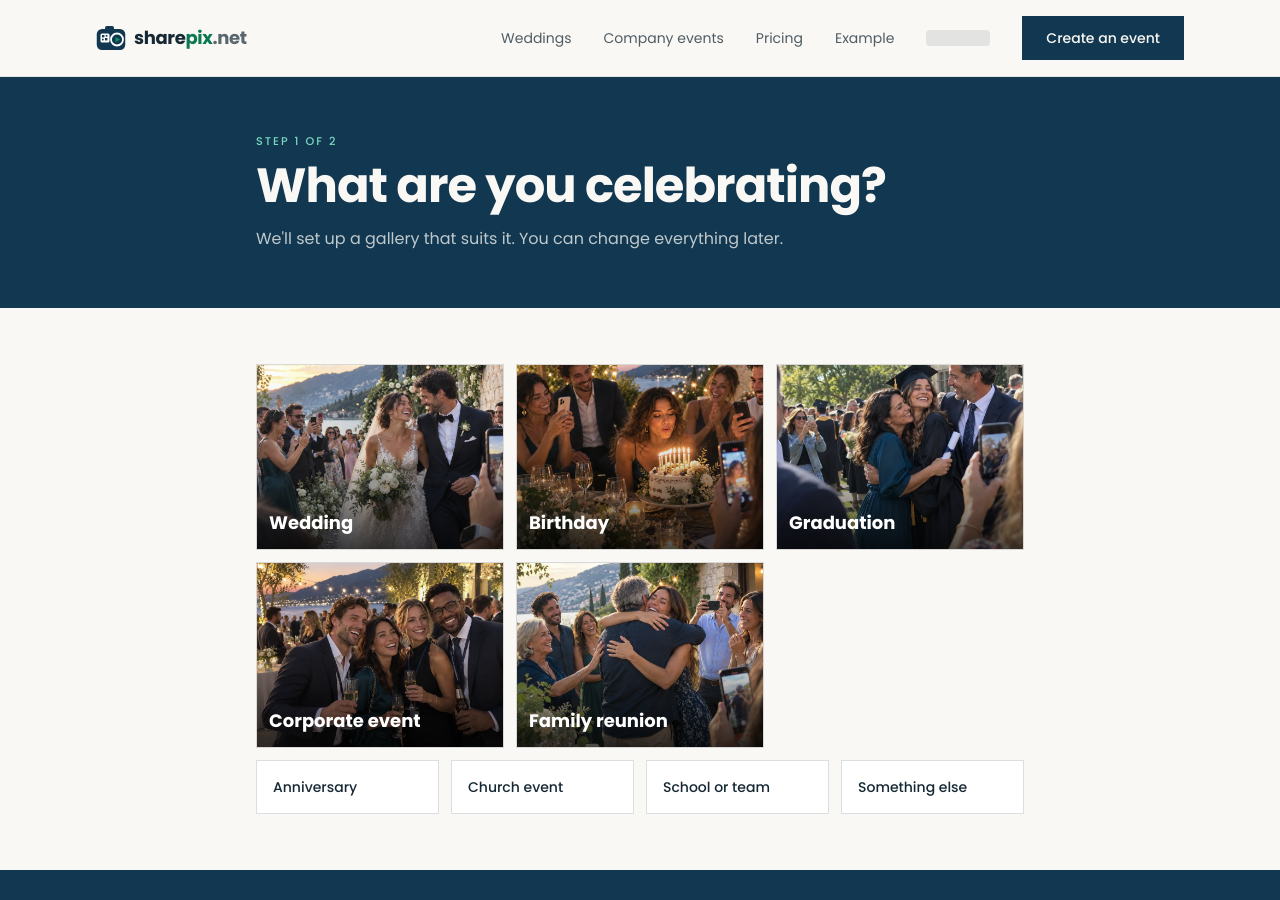
Test: creating an event › asks the event type first, then narrows the form to it
Expected: the text "What are you celebrating?" is shown, [256,152,886,219]
Expected: the field labelled "Event name" is not shown
Click the button "Wedding": click(380, 457) [256,364,504,550]
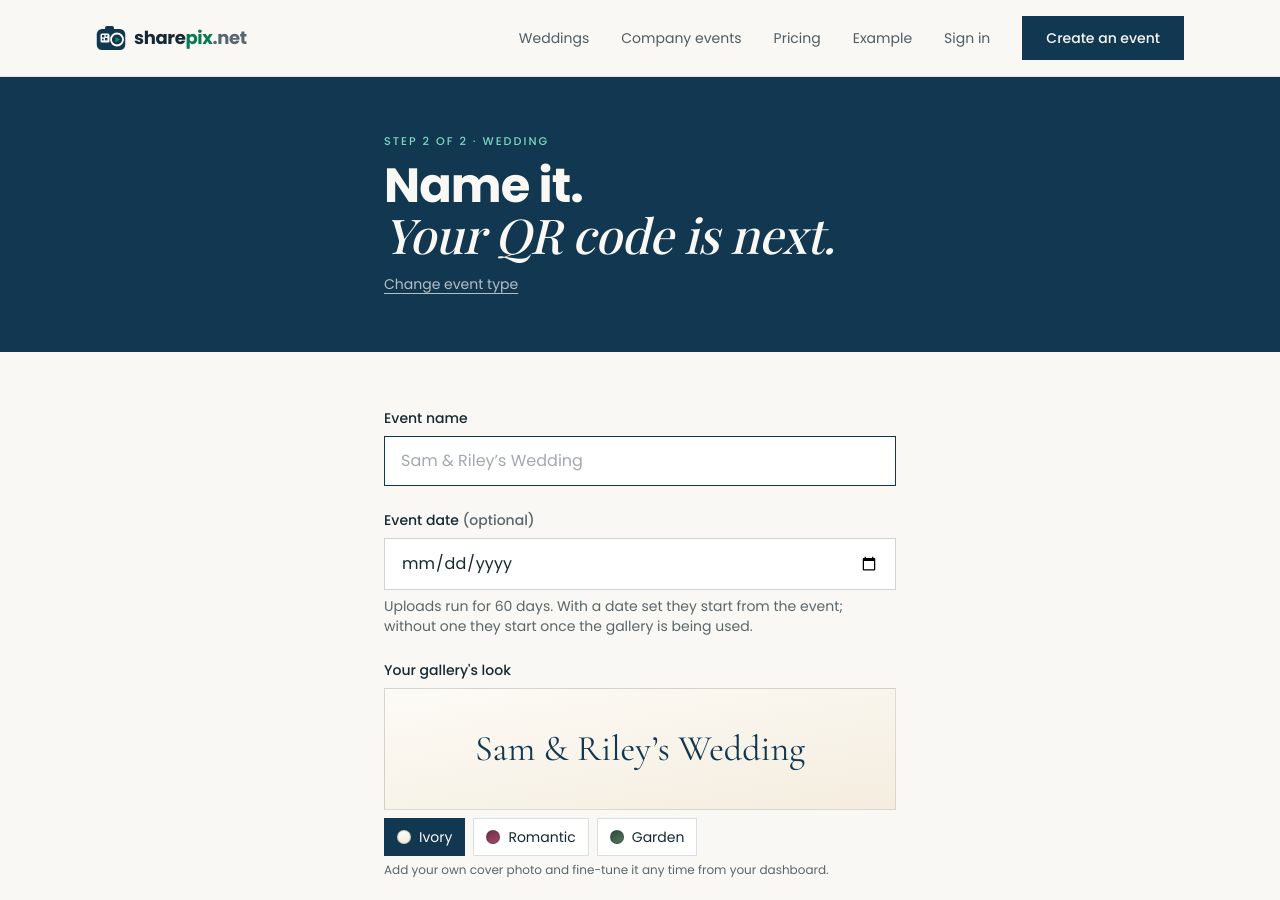
Now the radio button labelled "Ivory" is checked, box [384,818,465,856]
Now the radio button labelled "Romantic" is shown, box [473,818,589,856]
